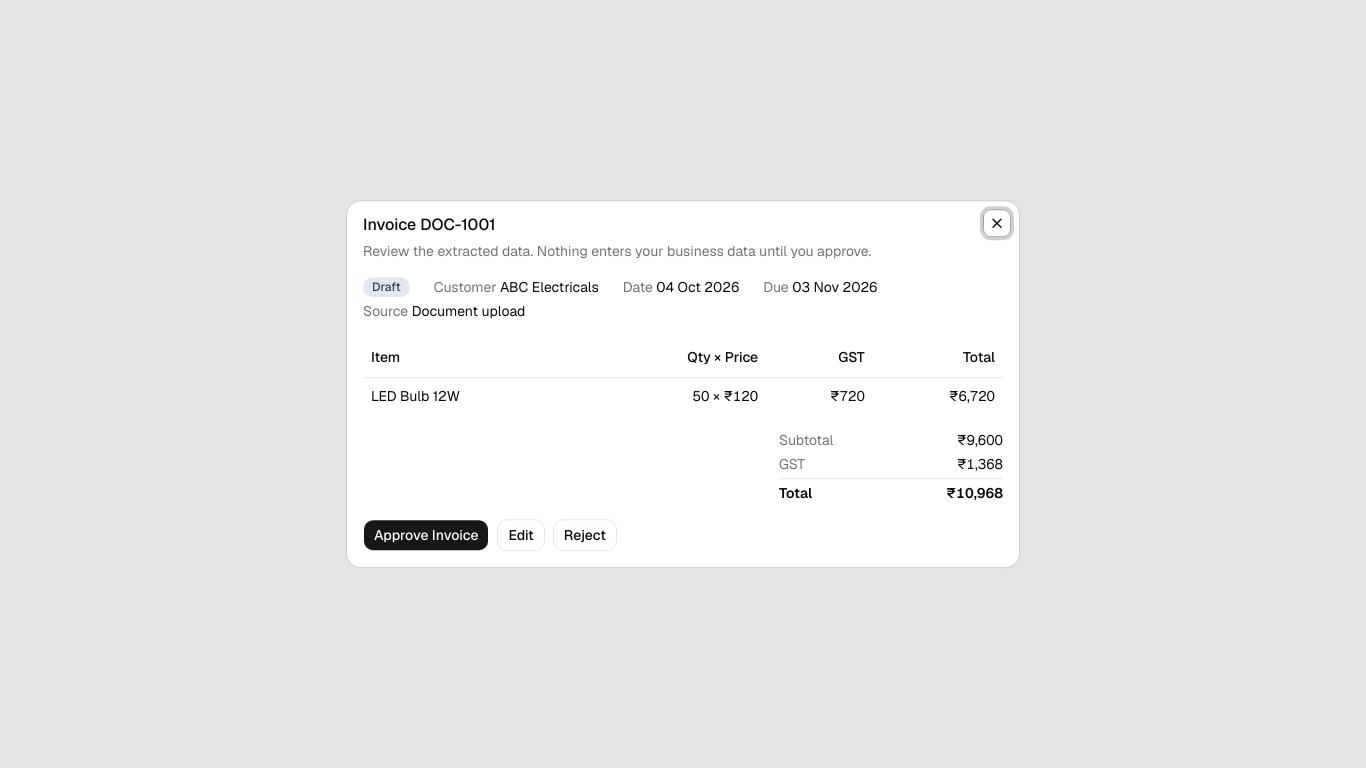
it: Invoice approval flow › shows extracted draft with totals and approves it
The image size is (1366, 768).
expect the heading "Invoice DOC-1001" is shown: met, box [363, 214, 496, 235]
expect the text "Nothing enters your business data until you approve" is shown: met, box [363, 242, 871, 260]
Click the button "Approve Invoice" at (426, 535), box [363, 519, 490, 551]
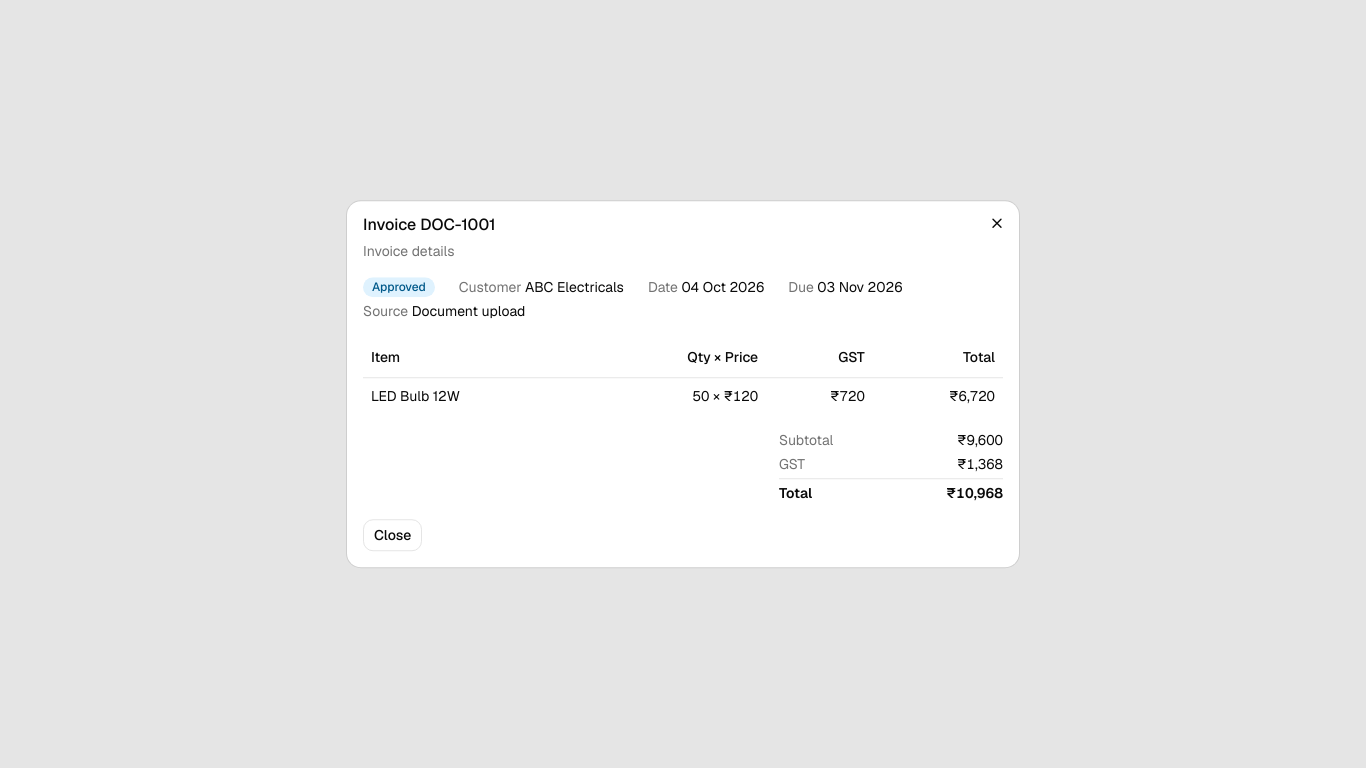
expect the button "Approve Invoice" is gone: met
